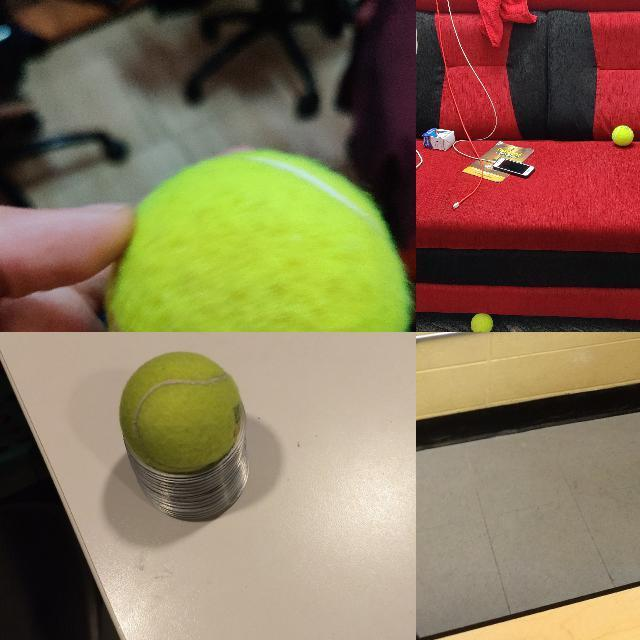tennis-ball: (105, 151, 407, 331), (118, 351, 242, 474), (611, 125, 633, 146), (470, 313, 493, 331)
